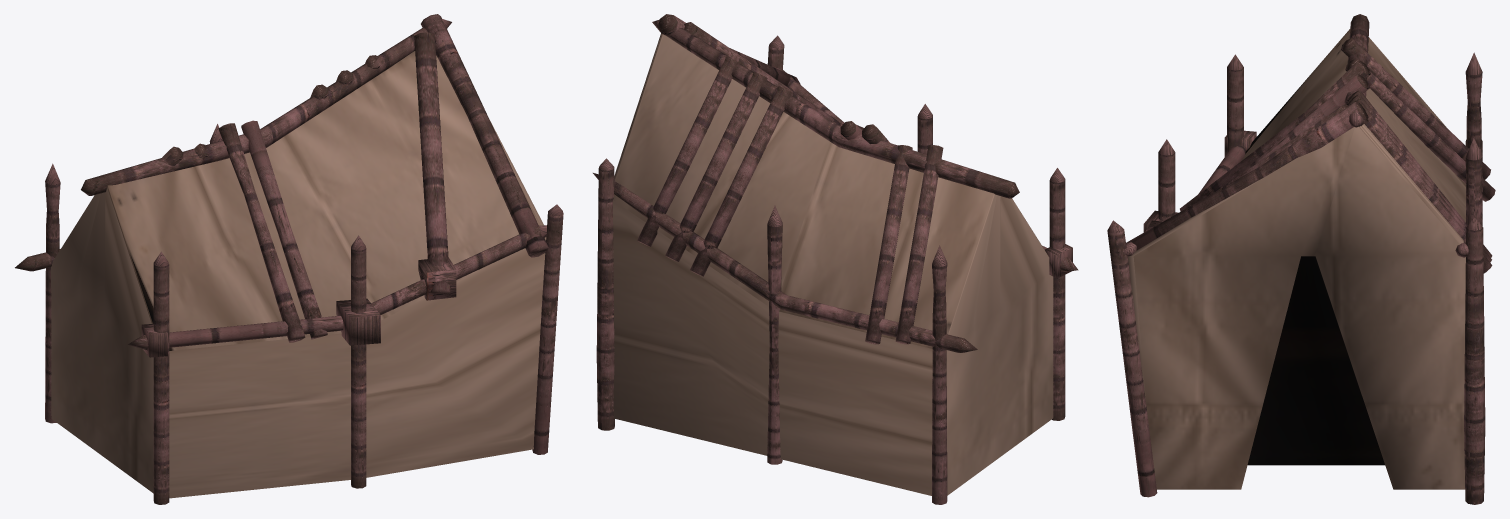
Rendered from Forte.fbx.
3 views of the same model, side by side, from view 1: azimuth 30°, elevation 25°; view 2: azimuth 150°, elevation 25°; view 3: azimuth 270°, elevation 25° (orthographic). The views are drawn at different scales.
Parts seen in each view (by area): view 1: Forte; view 2: Forte; view 3: Forte.
Boxes of the visible parts, x1,y1,x2,y2 form: Forte: [15, 14, 563, 504]; Forte: [593, 14, 1078, 504]; Forte: [1107, 14, 1495, 504].
Size of the model in its own units: 398 by 324 by 363.
